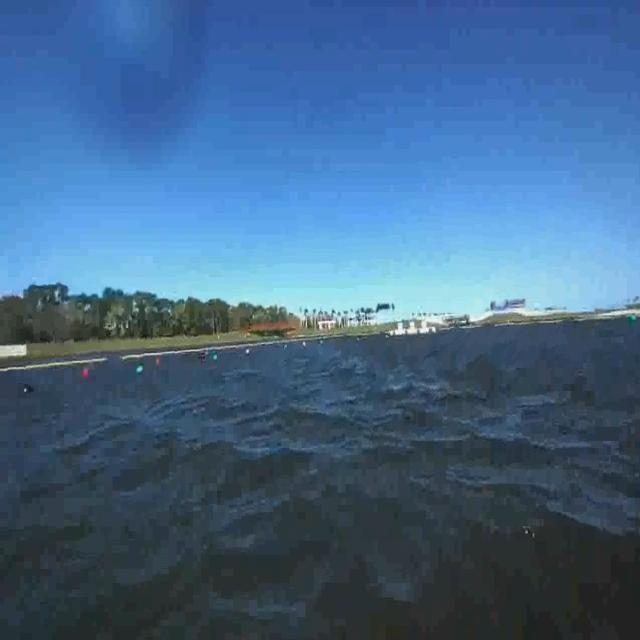red-buoy: (82, 368, 88, 376)
